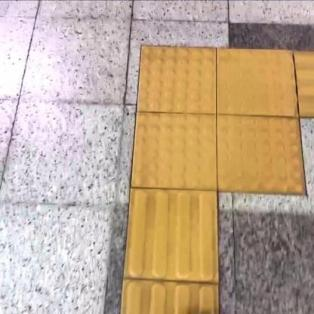Podoctatil: (119, 18, 313, 224), (118, 193, 220, 313)
